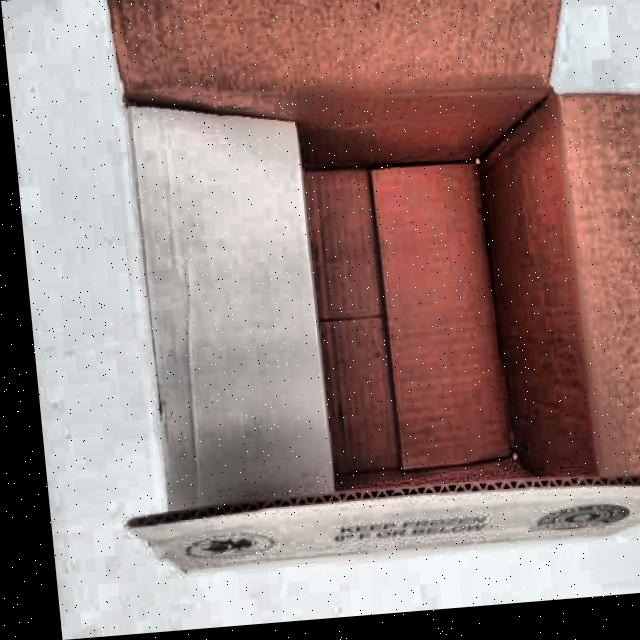cardboard: (74, 0, 640, 580)
